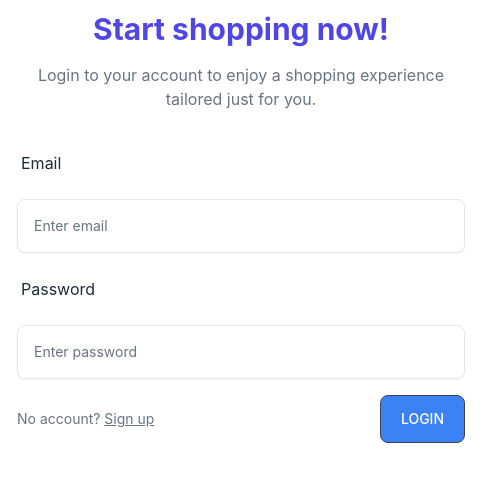
Test case: Login › email field should show error message if › clicked and not a valid email
Click the field labelled "Email".
click(241, 226)  # box [17,199,465,253]
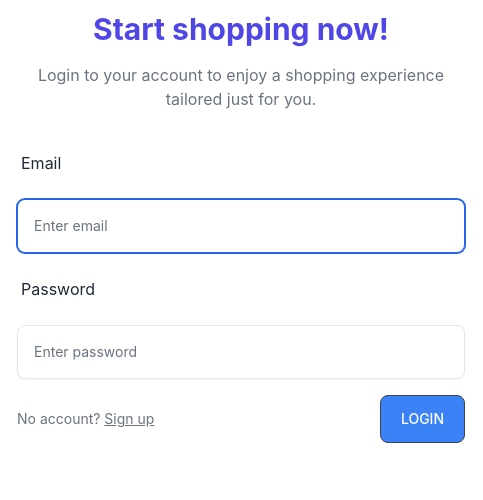
Type keys "asdfasdf"
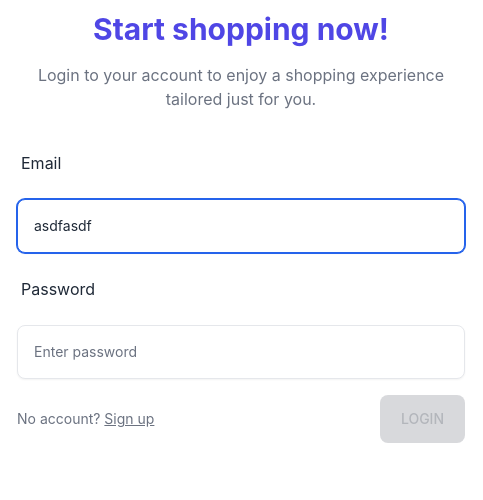
Click the password field labelled "Password".
click(241, 352)  # box [17,325,465,379]
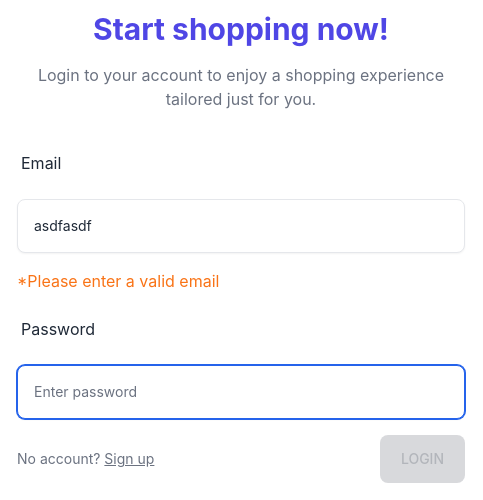
Expected: the text "*Please enter a valid email" is shown, [17,271,219,291]
